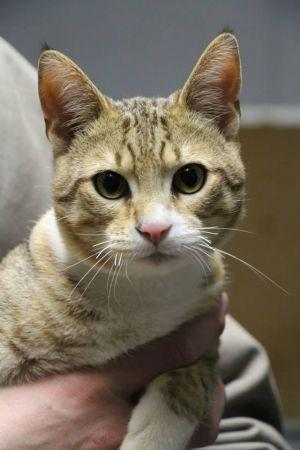bengal: (30, 27, 265, 294)
